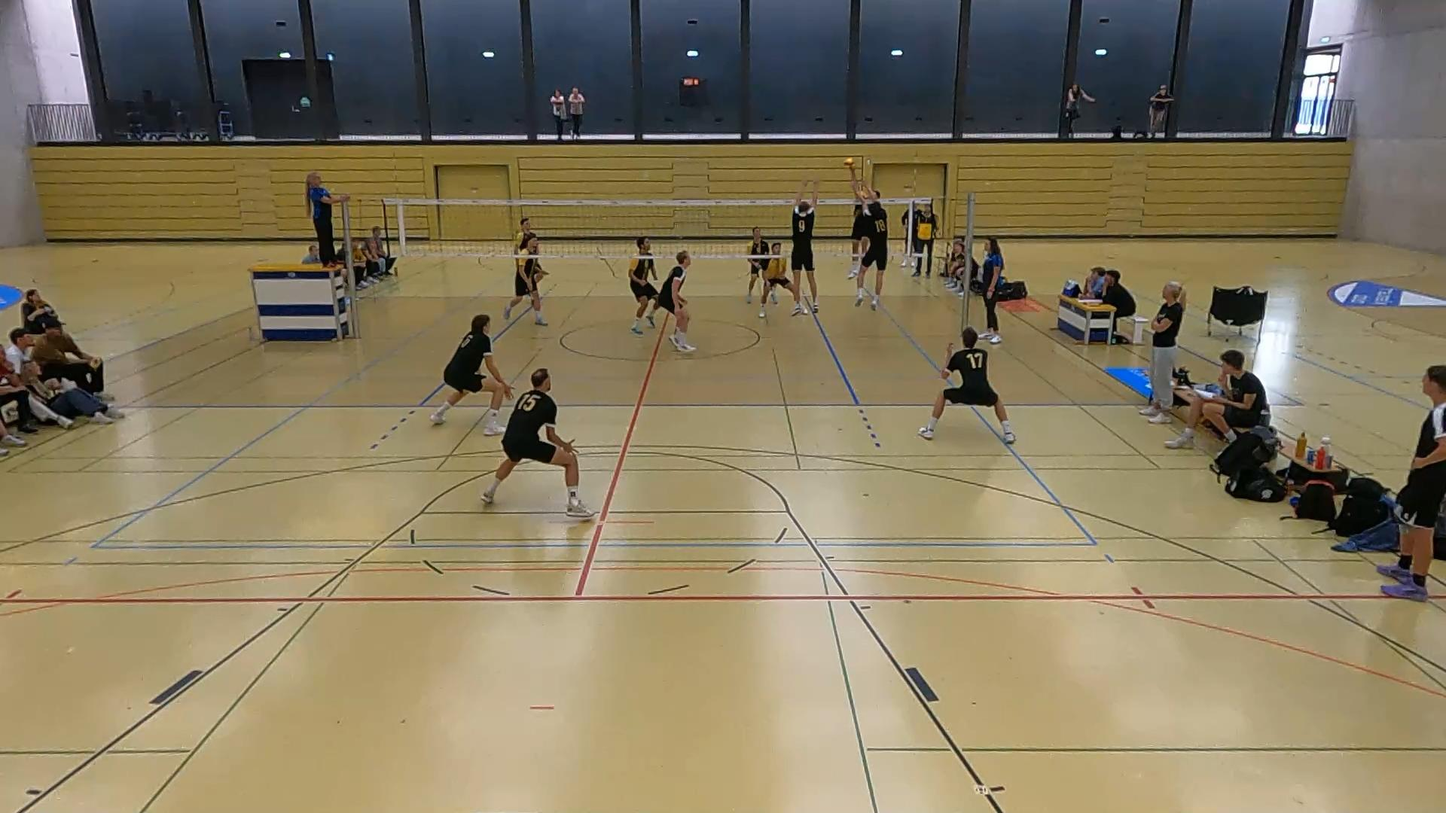Attack: (845, 172, 882, 282)
Block: (837, 184, 891, 314), (782, 181, 831, 316)
Player: (481, 368, 593, 518), (919, 327, 1014, 443), (430, 314, 512, 435), (504, 234, 547, 325), (657, 250, 695, 352), (759, 243, 805, 318), (628, 237, 657, 335), (746, 227, 768, 303), (514, 217, 535, 246)
ball: (842, 154, 857, 170)
